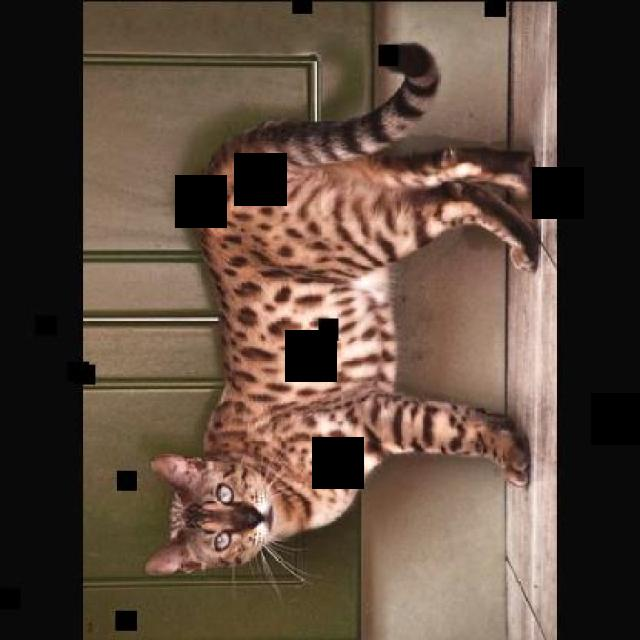unauthorized: (143, 40, 543, 597)
